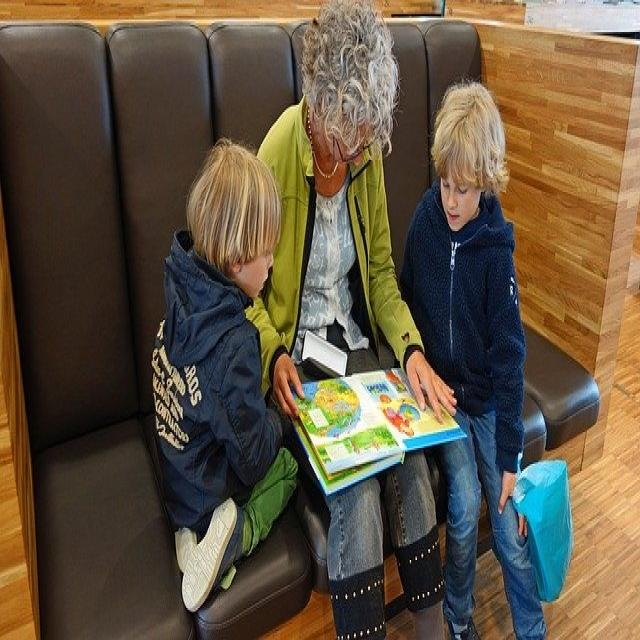adult: (256, 0, 457, 640)
child: (402, 78, 546, 640), (151, 138, 300, 615)
